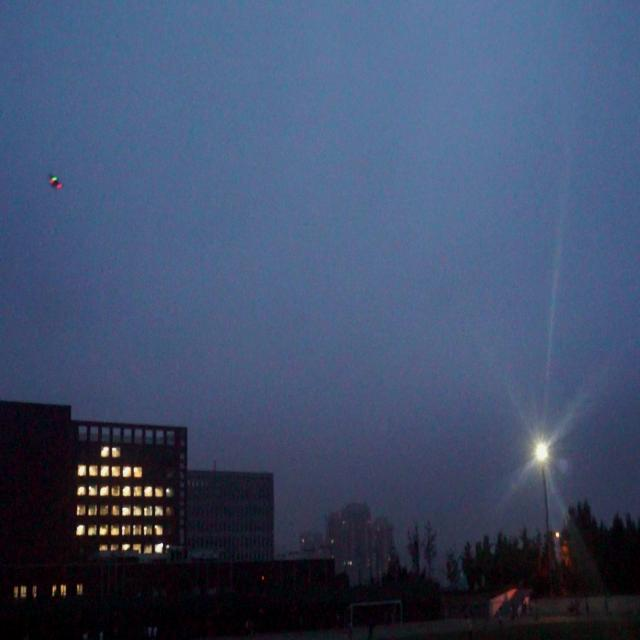drone: (47, 169, 65, 197)
